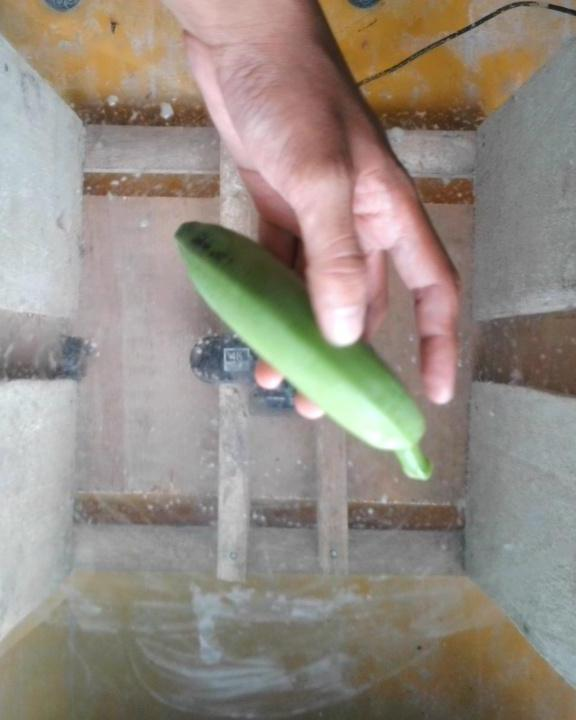CLASS B: (172, 209, 452, 497)
Class A: (192, 227, 232, 277)
